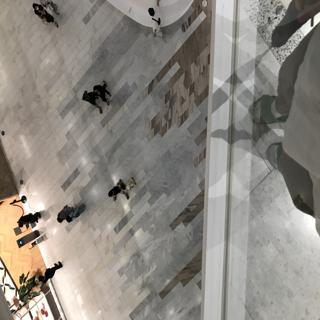person: (100, 180, 140, 206), (71, 88, 101, 119), (54, 203, 93, 221), (92, 79, 116, 108)
